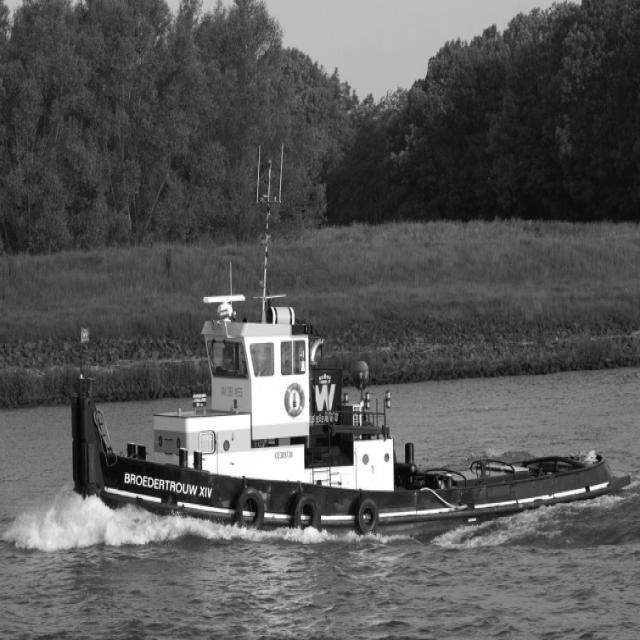tugboat: (63, 138, 636, 565)
